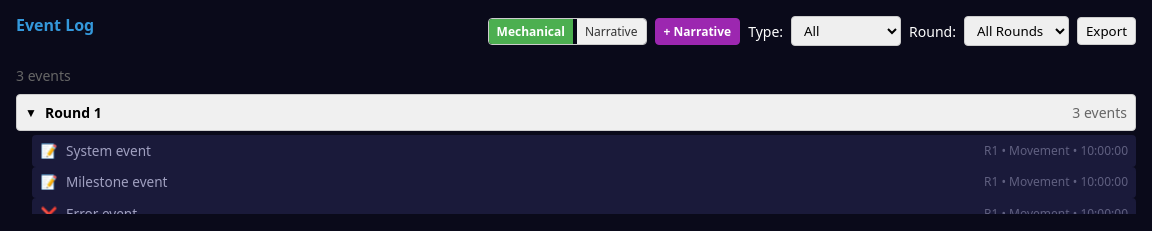
Scenario: EventLog › milestone filtering › should filter milestone events
Select "Milestones" in the dropdown labelled "Type:" at (846, 31), box [791,16,901,46]
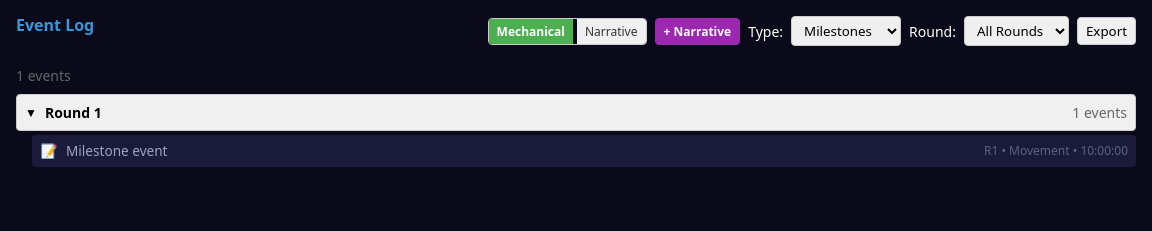
Expected: the text "Milestone event" is shown, [66,141,168,160]
Expected: the text "System event" is gone
